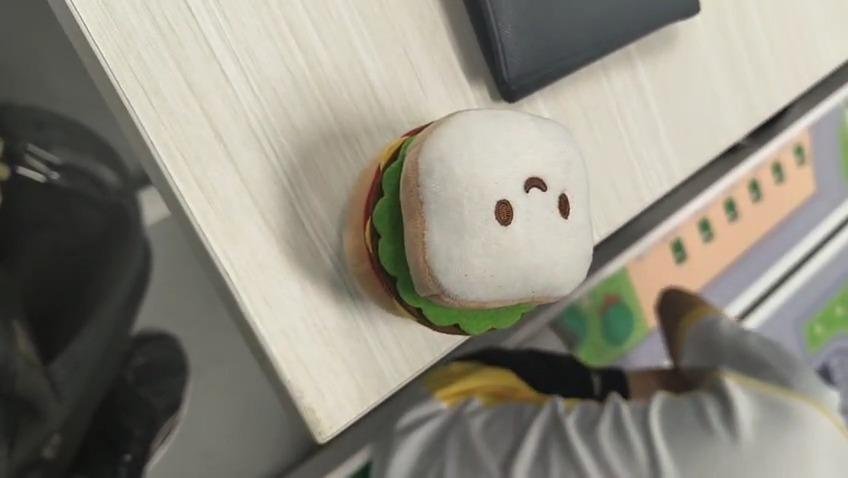objects: (343, 107, 598, 338)
